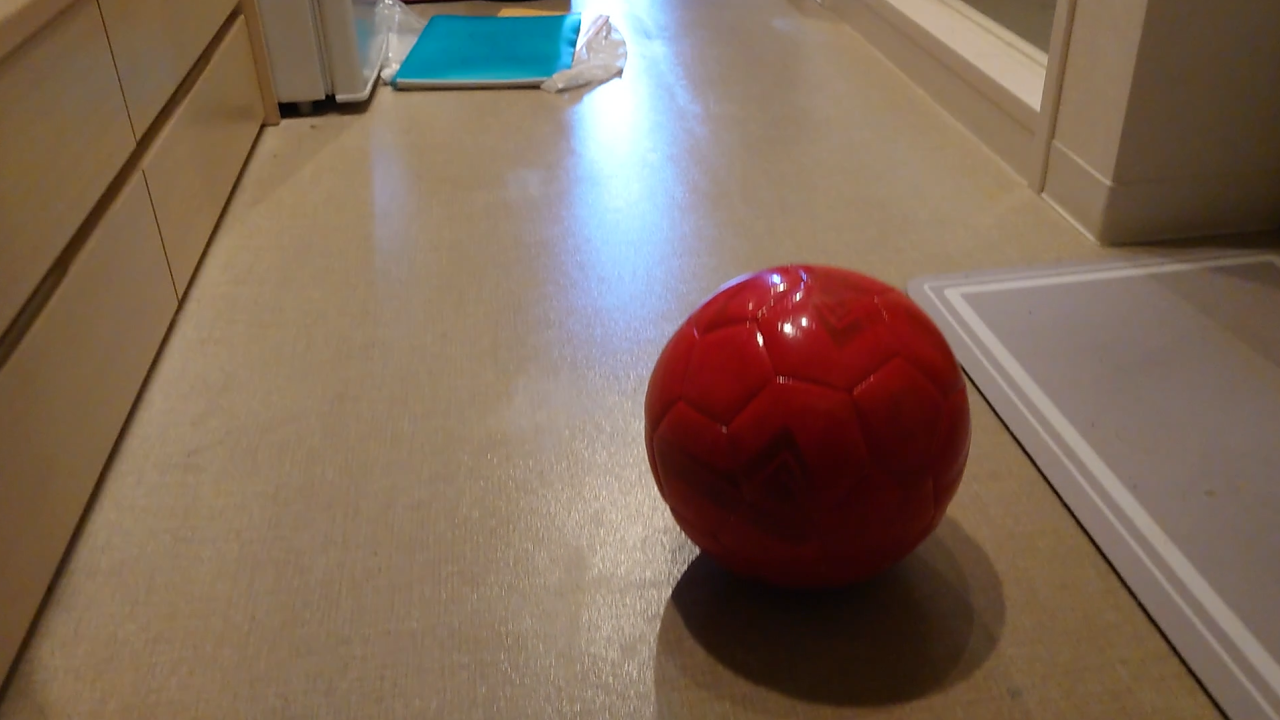red: (643, 267, 972, 582)
